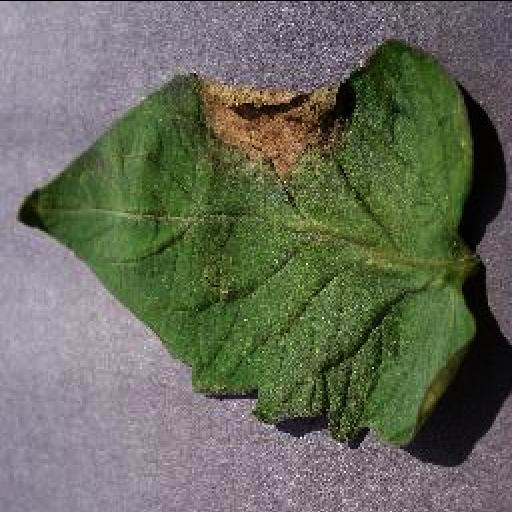disease_tomato: (12, 39, 484, 453)
